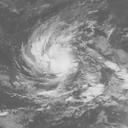cyclone: (22, 15, 80, 83)
